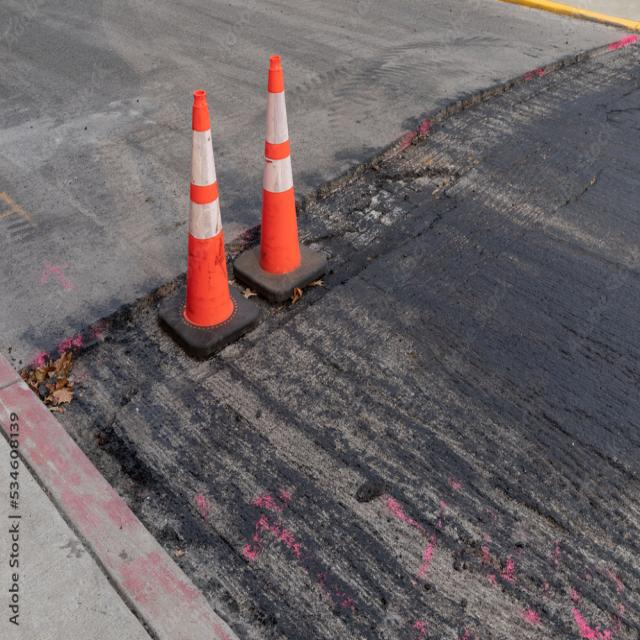Pothole: (0, 51, 516, 491)
